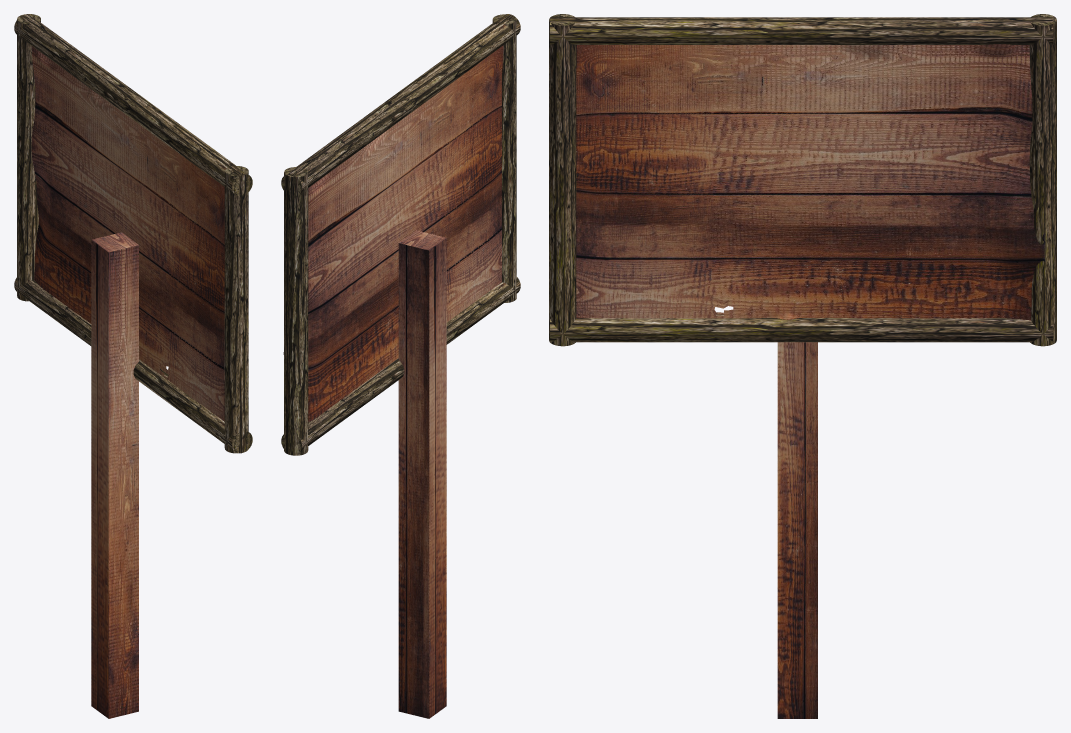
File: sign2.glb
The picture shows the model from 3 angles, left to right: view 1: azimuth 30°, elevation 25°; view 2: azimuth 150°, elevation 25°; view 3: azimuth 270°, elevation 25°; orthographic projection. The views are drawn at different scales.
Parts seen in each view (by area): view 1: Plane_Plane.001, Cube_Cube.001, Cylinder.003, Cylinder.002, Cylinder.004, Cylinder.001; view 2: Plane_Plane.001, Cube_Cube.001, Cylinder.004, Cylinder.003, Cylinder.002, Cylinder.001; view 3: Plane_Plane.001, Cube_Cube.001, Cylinder.003, Cylinder.001, Cylinder.002, Cylinder.004.
Boxes of the visible parts, box(x1,y1,x2,y2) form: Plane_Plane.001: box(31, 46, 224, 421); Cube_Cube.001: box(91, 232, 138, 718); Cylinder.003: box(14, 14, 252, 195); Cylinder.002: box(224, 166, 248, 453); Cylinder.004: box(17, 14, 40, 301); Cylinder.001: box(14, 277, 252, 453); Plane_Plane.001: box(283, 45, 503, 422); Cube_Cube.001: box(398, 230, 446, 718); Cylinder.004: box(284, 167, 308, 455); Cylinder.003: box(281, 14, 520, 194); Cylinder.002: box(492, 14, 516, 302); Cylinder.001: box(281, 277, 520, 453); Plane_Plane.001: box(576, 44, 1045, 320); Cube_Cube.001: box(777, 342, 817, 718); Cylinder.003: box(550, 17, 1053, 44); Cylinder.001: box(550, 314, 1053, 342); Cylinder.002: box(549, 14, 576, 346); Cylinder.004: box(1029, 14, 1056, 346).
Bounding box in the file's own units: 0.373 × 4.6 × 3.01.
3 materials, 3 textured.
